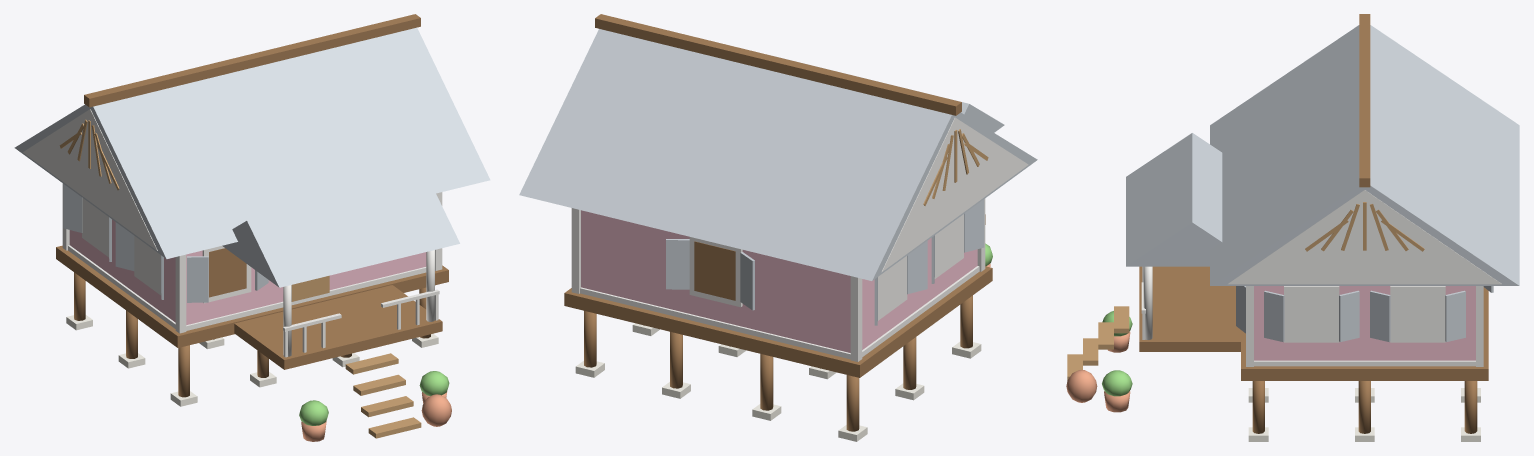
The model's file is Bld_KampungHouse4.fbx.
The picture shows the model from 3 angles, left to right: view 1: azimuth 30°, elevation 25°; view 2: azimuth 150°, elevation 25°; view 3: azimuth 270°, elevation 25°; orthographic projection. The views are drawn at different scales.
Parts seen in each view (by area): view 1: Bld_KampungHouse4; view 2: Bld_KampungHouse4; view 3: Bld_KampungHouse4.
Part boxes in pixels (x1,y1,x2,y2): Bld_KampungHouse4: [14, 14, 490, 441]; Bld_KampungHouse4: [519, 14, 1037, 441]; Bld_KampungHouse4: [1066, 14, 1519, 441].
Bounding box in the file's own units: 8.8 × 7.06 × 10.25.
